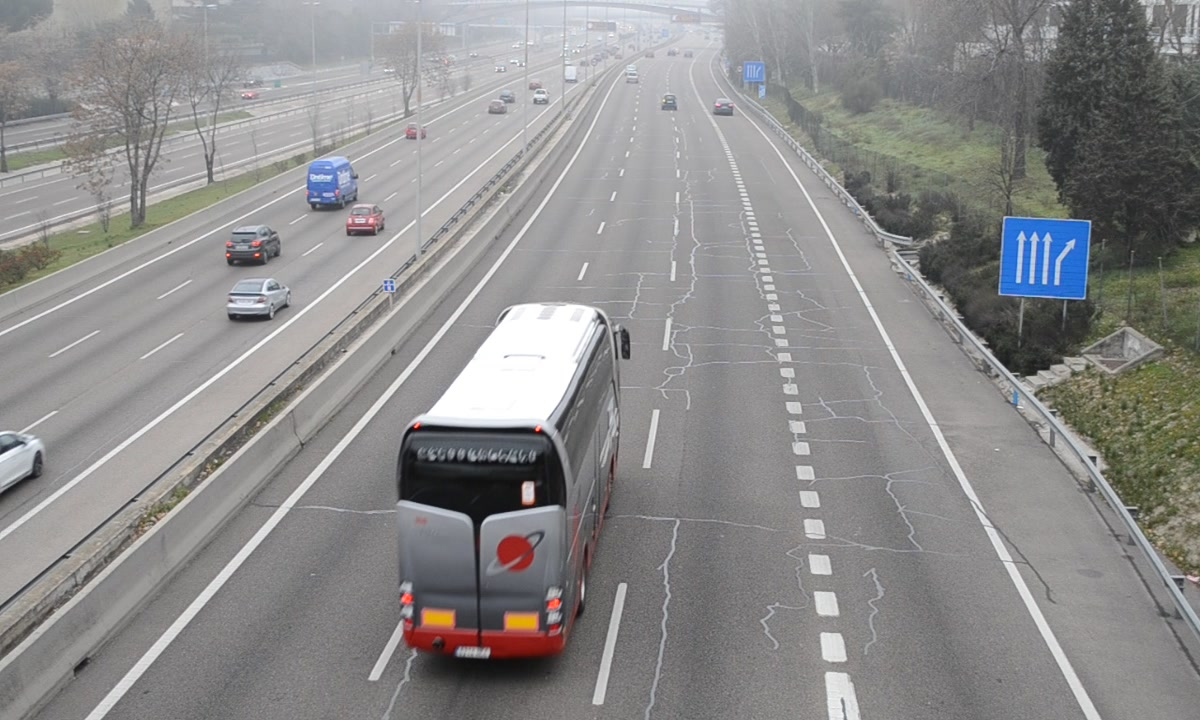bus: (394, 304, 618, 659)
car: (713, 98, 735, 117), (660, 92, 679, 113)
